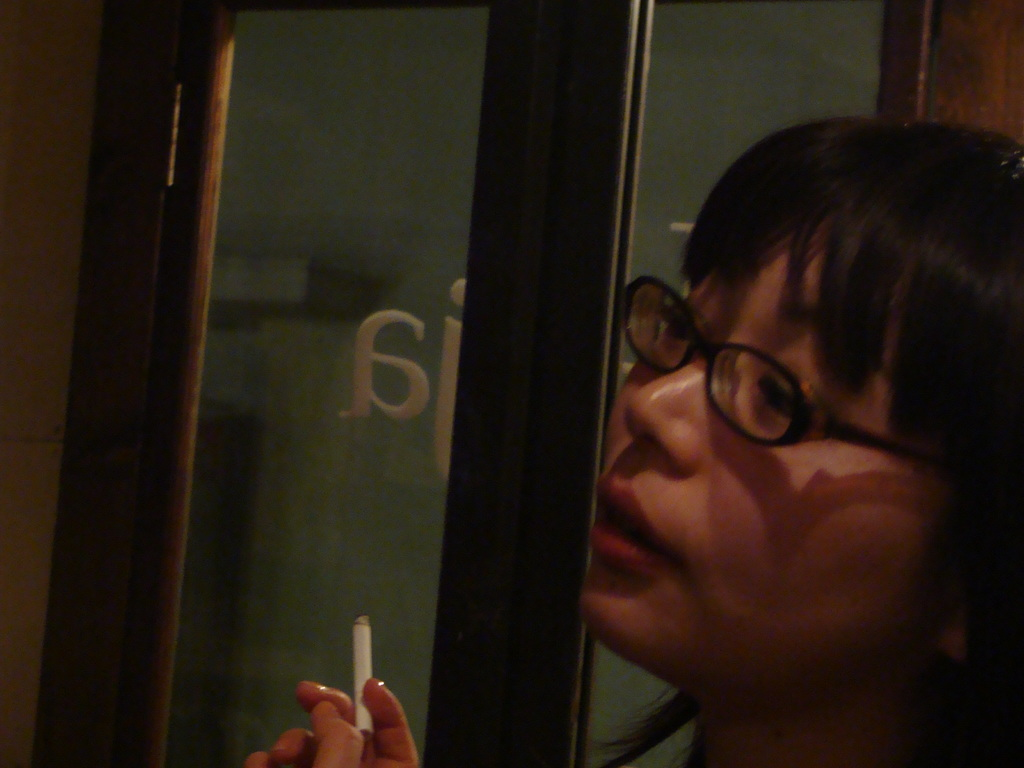Human_hand: (276, 637, 404, 768)
